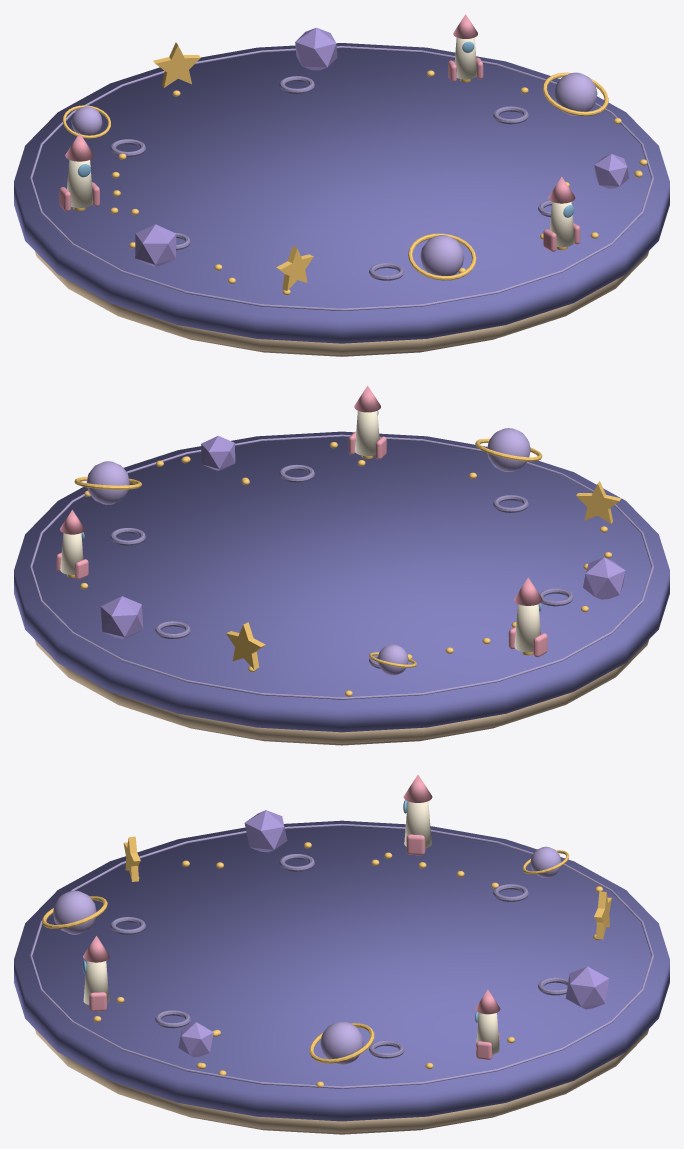
The model's file is world.glb.
The picture shows the model from 3 angles, top to bottom: view 1: azimuth 30°, elevation 25°; view 2: azimuth 150°, elevation 25°; view 3: azimuth 270°, elevation 25°; orthographic projection.
Visible parts, largest first — view 1: Cone, Cone.001, Torus.112, planet.003, rocket.002, planet.001, rocket.003, rocket.001, gem.002, gem.001, planet.002, star.001 (+3 smaller); view 2: Cone, Cone.001, Torus.112, rocket.002, rocket.003, planet.003, planet.001, rocket.001, gem.001, gem.002, gem.003, star.001 (+3 smaller); view 3: Cone, Cone.001, Torus.112, planet.001, planet.003, rocket.002, rocket.003, gem.001, rocket.001, gem.002, gem.003, planet.002 (+3 smaller).
Part boxes in pixels (box(x1,y1,x2,y2)): Cone: box(14, 43, 669, 343); Cone.001: box(35, 251, 648, 355); Torus.112: box(30, 46, 653, 310); planet.003: box(408, 233, 476, 280); rocket.002: box(59, 133, 99, 211); planet.001: box(542, 72, 608, 115); rocket.003: box(543, 177, 580, 251); rocket.001: box(448, 14, 483, 82); gem.002: box(135, 224, 176, 266); gem.001: box(295, 27, 337, 70); planet.002: box(62, 105, 110, 138); star.001: box(153, 42, 200, 87); Cone: box(14, 431, 669, 732); Cone.001: box(34, 639, 649, 743); Torus.112: box(30, 434, 653, 699); rocket.002: box(508, 577, 547, 657); rocket.003: box(348, 385, 386, 459); planet.003: box(475, 428, 542, 471); planet.001: box(74, 461, 141, 504); rocket.001: box(56, 510, 88, 579); gem.001: box(100, 596, 143, 638); gem.002: box(583, 557, 625, 599); gem.003: box(201, 435, 235, 470); star.001: box(226, 622, 265, 669); Cone: box(14, 820, 669, 1121); Cone.001: box(35, 1029, 648, 1133); Torus.112: box(30, 823, 653, 1088); planet.001: box(309, 1021, 374, 1064); planet.003: box(42, 890, 107, 934); rocket.002: box(403, 775, 432, 855); rocket.003: box(82, 936, 109, 1011); gem.001: box(565, 966, 609, 1009); rocket.001: box(475, 989, 500, 1059); gem.002: box(244, 810, 287, 852); gem.003: box(178, 1022, 213, 1057); planet.002: box(522, 846, 569, 877).
Size of the model in its own units: 9.6 by 1.99 by 9.6.
